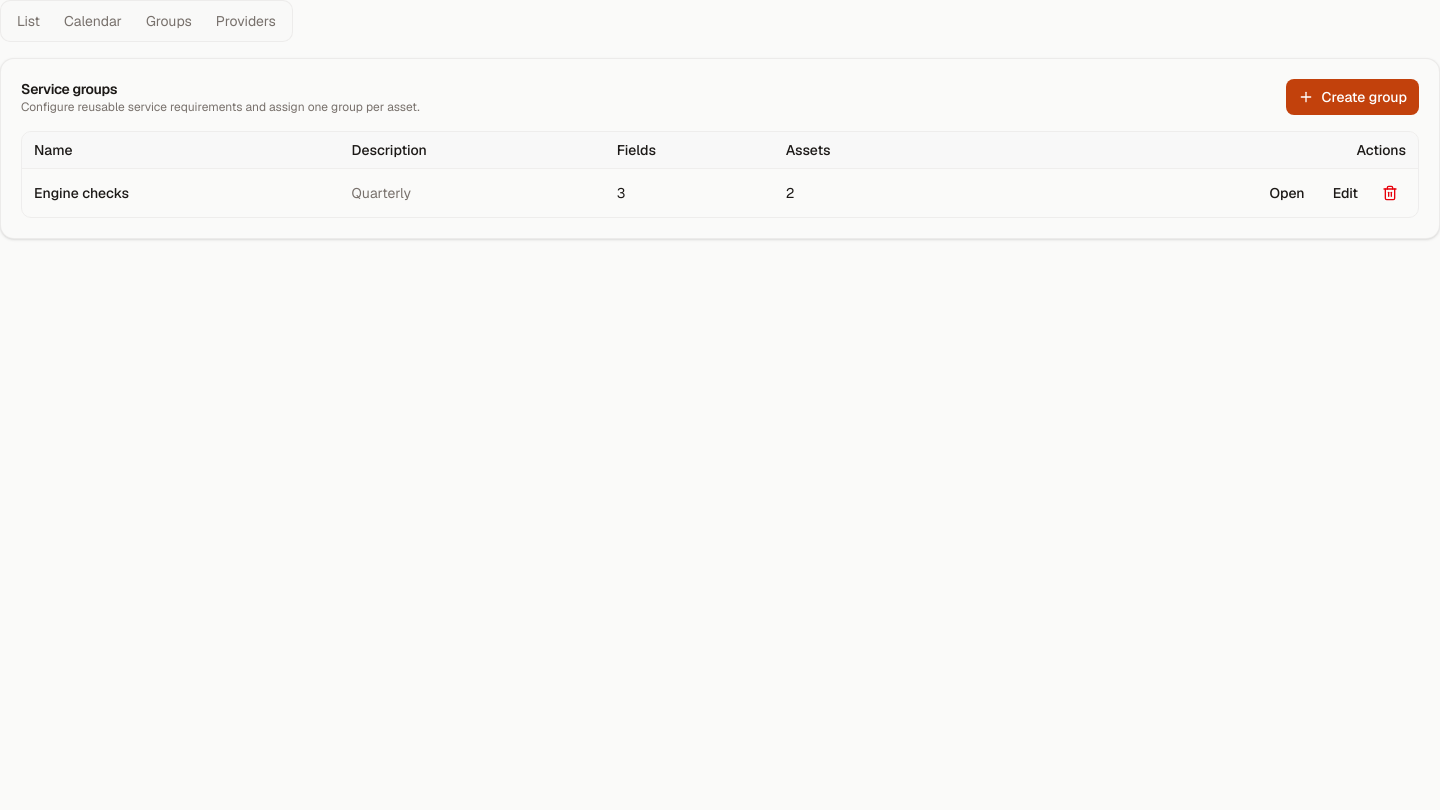
Test: ServiceGroupsList › renders groups and allows admins to open create dialog
Expected: the link "Engine checks" is shown, [34,184,129,202]
Click the button "Create group". click: (1352, 97)
box: [1286,79,1419,115]
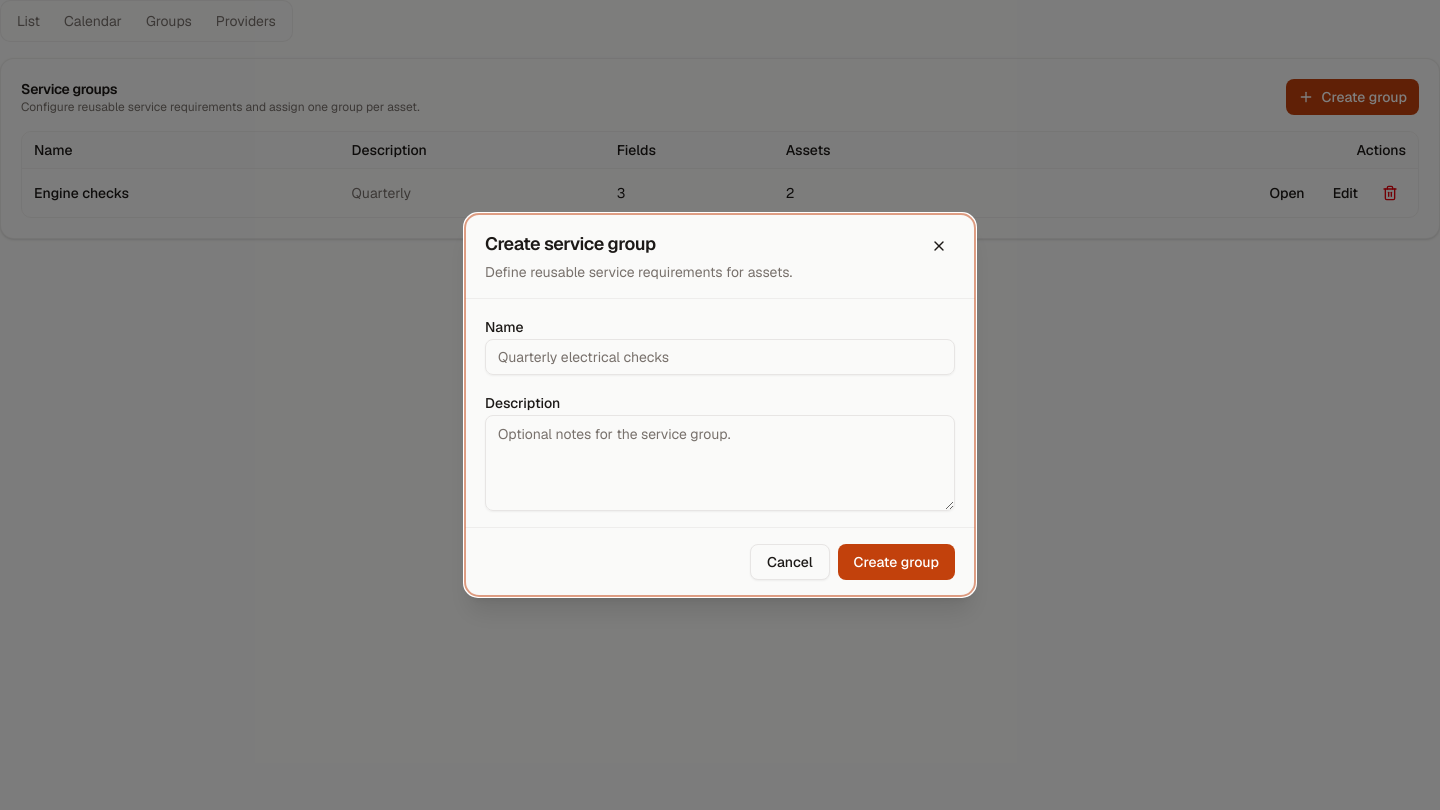
Result: the heading "Create service group" is shown at [485,232,656,255]
